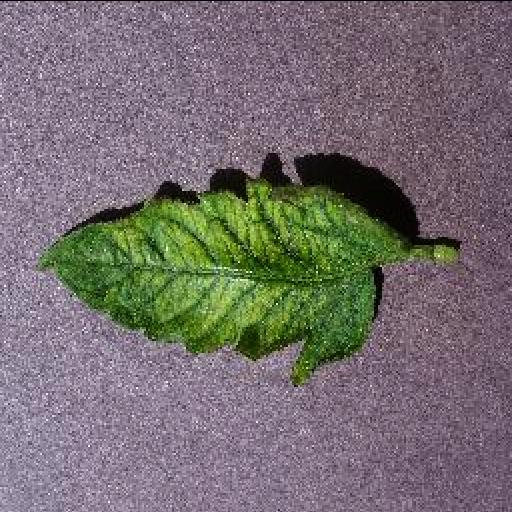Mosaic Virus: (35, 174, 401, 384)
